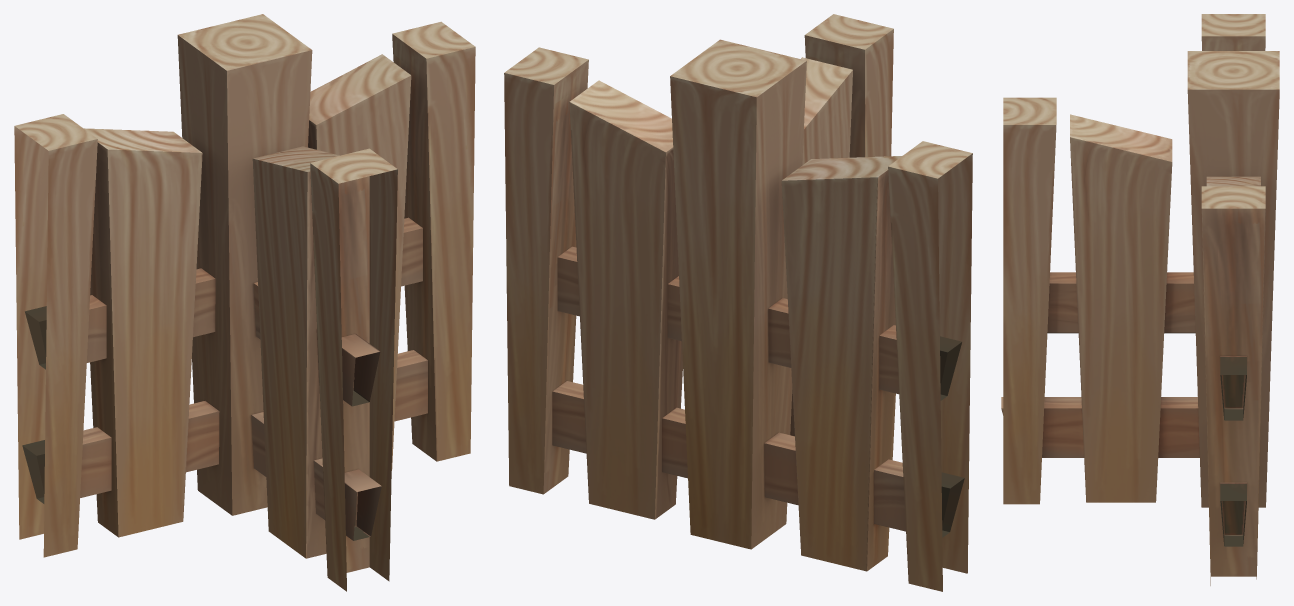
File: fence2_corner3.FBX
3 views of the same model, side by side, from view 1: azimuth 30°, elevation 25°; view 2: azimuth 150°, elevation 25°; view 3: azimuth 270°, elevation 25° (orthographic). The views are drawn at different scales.
Visible parts, largest first — view 1: fence2_corner3; view 2: fence2_corner3; view 3: fence2_corner3.
Part boxes in pixels (x1,y1,x2,y2): fence2_corner3: (14, 14, 475, 591); fence2_corner3: (504, 14, 972, 591); fence2_corner3: (1001, 14, 1279, 585).
Bounding box in the file's own units: 50.49 × 50.83 × 30.25.
Materials: 1 (1 with a texture image).
